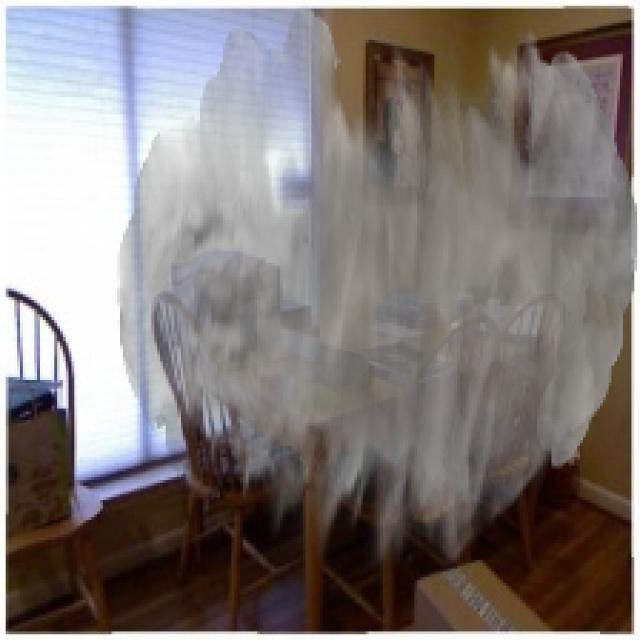Smoke: (117, 6, 637, 572)
